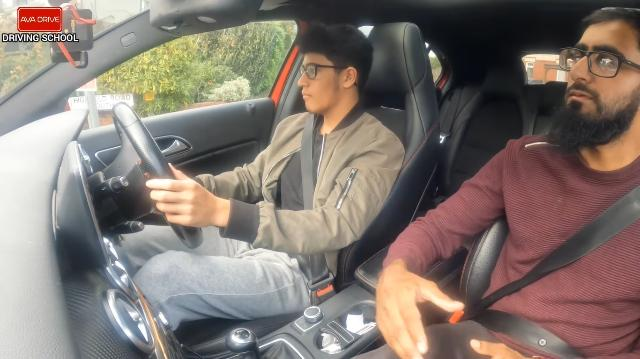seatbelt: (214, 123, 438, 279), (476, 152, 639, 359)
